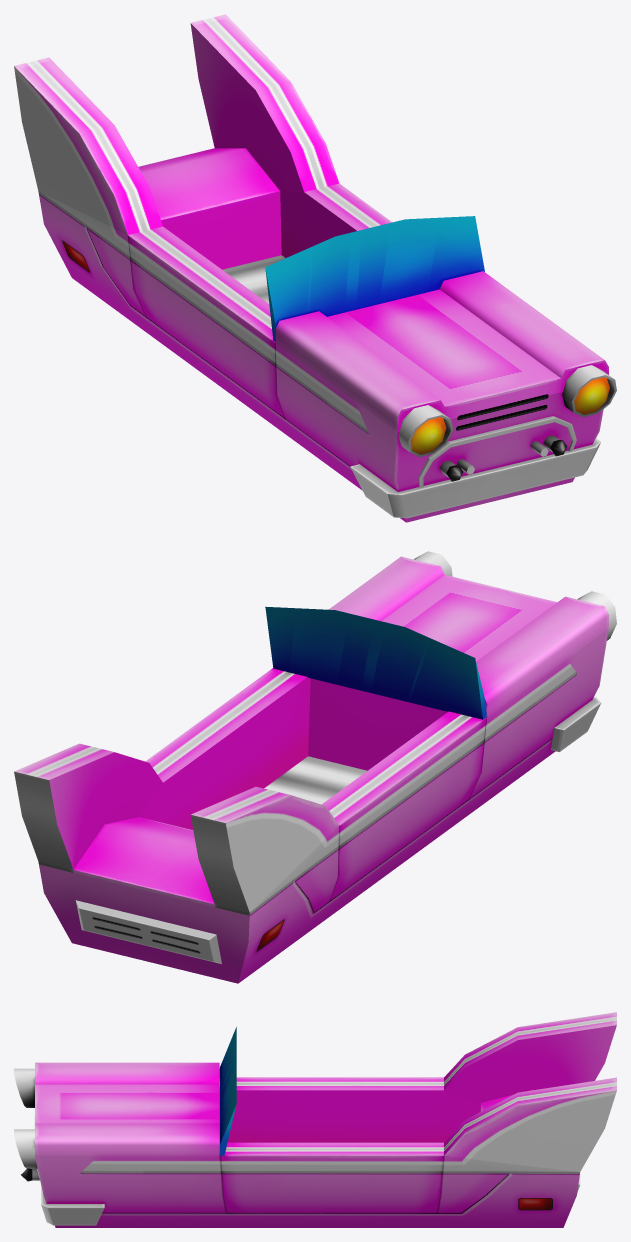
The model's file is Pink_Car_New.fbx.
3 views of the same model, one above another, from view 1: azimuth 30°, elevation 25°; view 2: azimuth 150°, elevation 25°; view 3: azimuth 270°, elevation 25° (orthographic). The views are drawn at different scales.
Visible parts, largest first — view 1: Pink_Car_New; view 2: Pink_Car_New; view 3: Pink_Car_New.
Part boxes in pixels (x1=…): Pink_Car_New: x1=14, y1=14, x2=616, y2=522; Pink_Car_New: x1=14, y1=551, x2=616, y2=983; Pink_Car_New: x1=14, y1=1012, x2=616, y2=1227.
Size of the model in its own units: 23.38 by 20.04 by 75.17.
